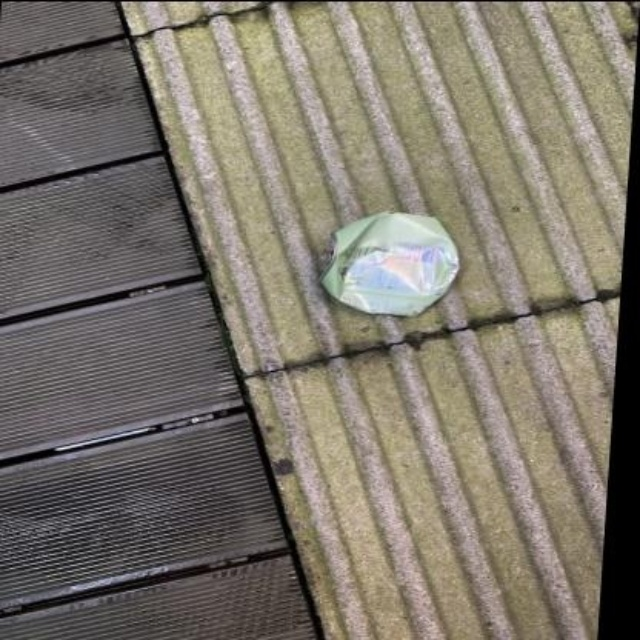trash: (322, 212, 457, 314)
